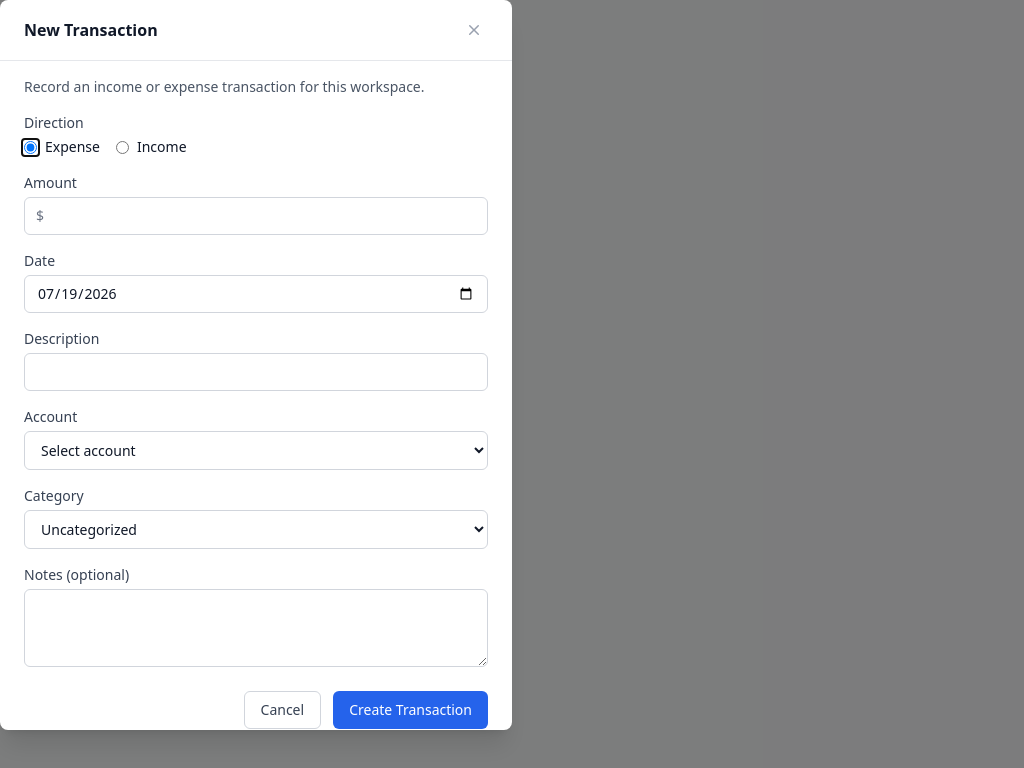
Test case: CreateTransactionDialog — amount and direction › blocks submission on empty amount
Type "Groceries run" into the field labelled "Description" at (256, 372), box [24,353,488,391]
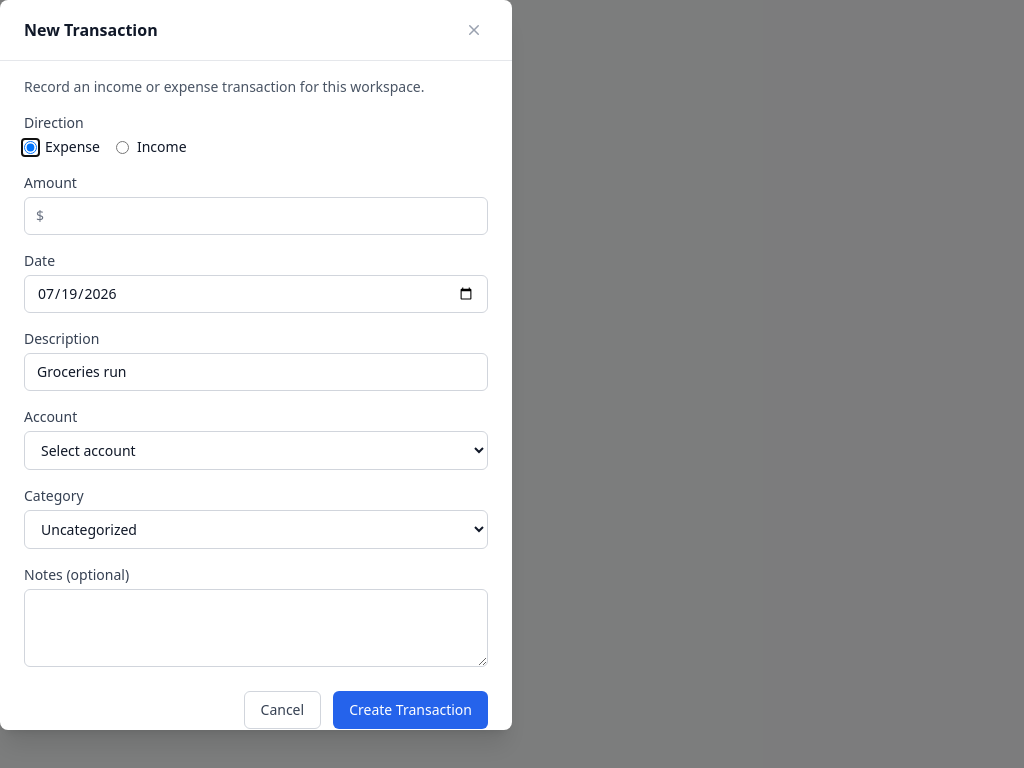
Select "Everyday Checking" in the dropdown labelled "Account" at (256, 450), box [24,431,488,470]
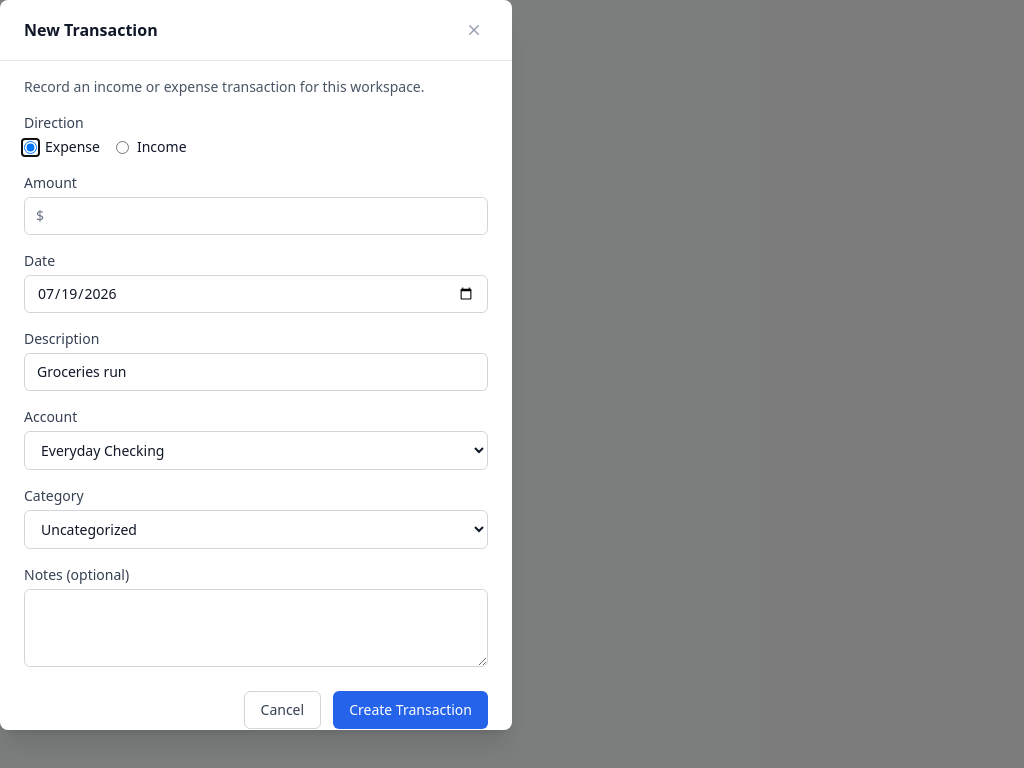
Click the button "Create Transaction" at (411, 710), box [333,691,488,729]
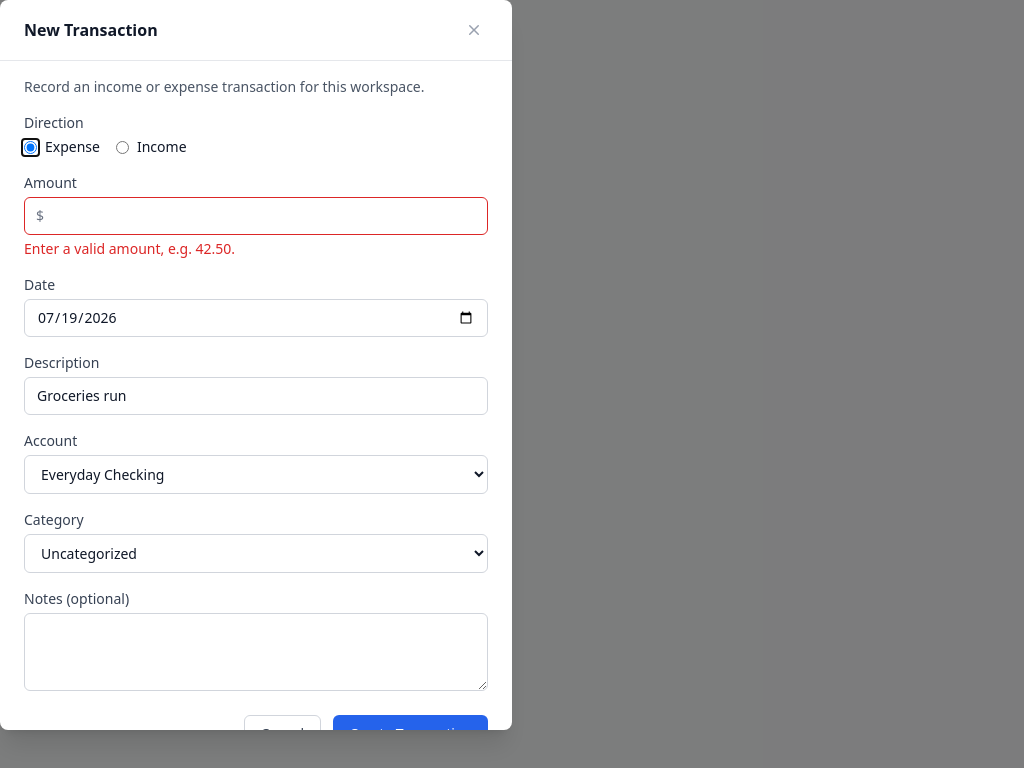
Check: the text "Enter a valid amount, e.g. 42.50." is shown, box [24,239,235,258]
